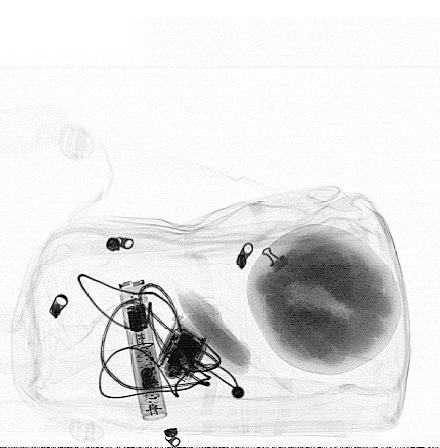Baton: (118, 277, 168, 422)
